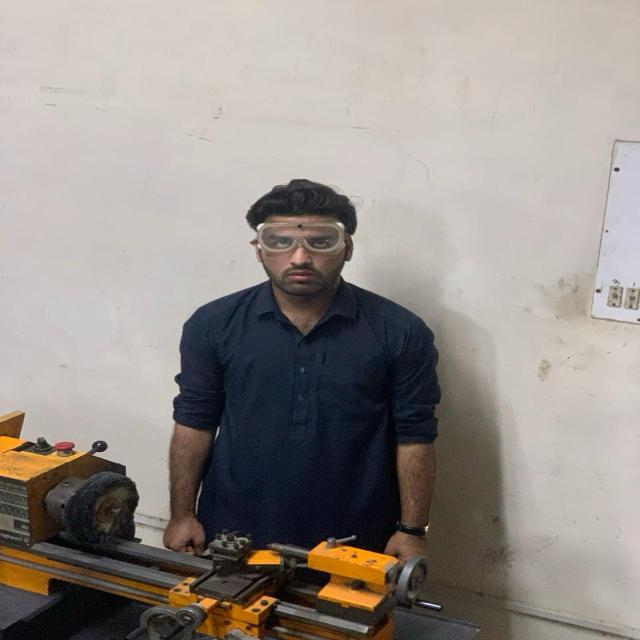googles: (252, 221, 352, 254)
